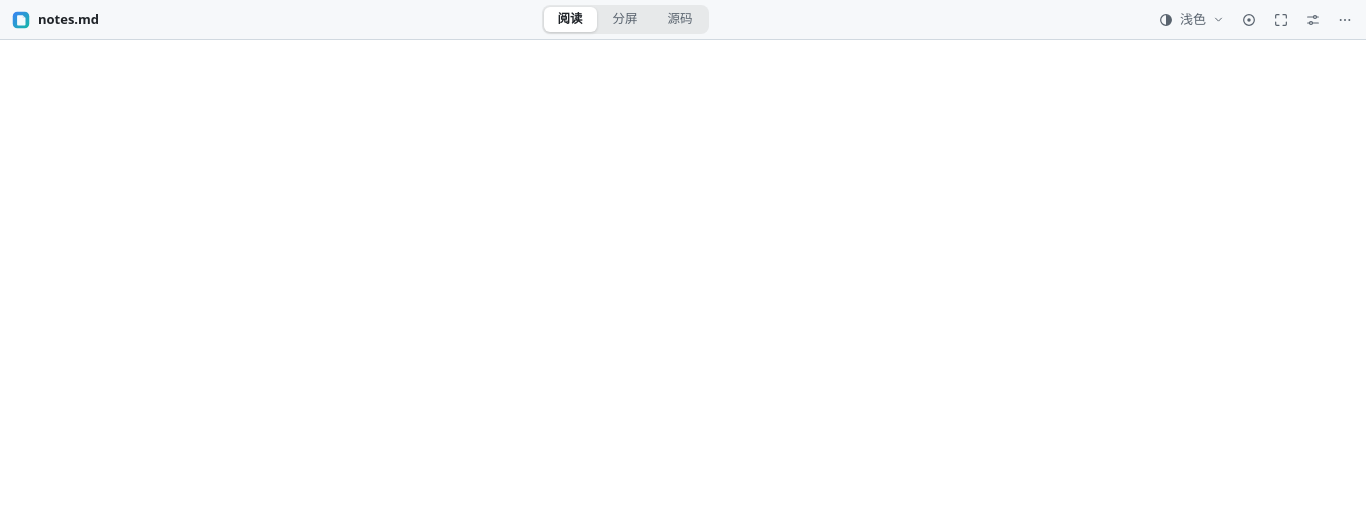
Scenario: TitleBar › routes kebab-menu actions and omits share entries in lightweight builds
The width and height of the screenshot is (1366, 506).
Click the button titled "更多操作" at (1345, 20), box [1330,6,1360,34]
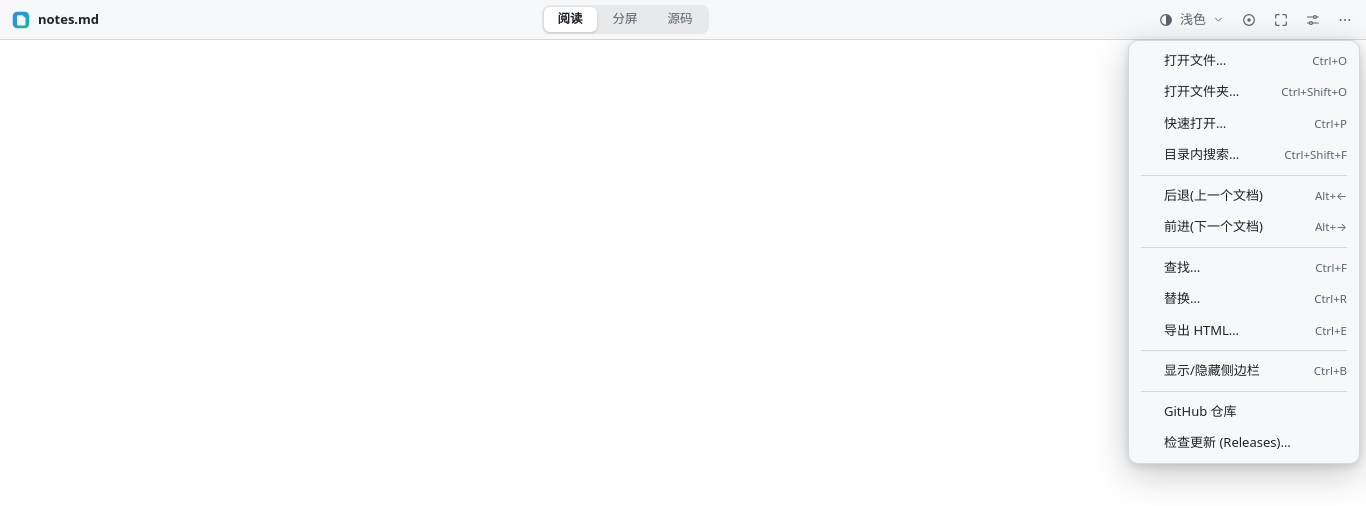
Click the menu item "导出 HTML… Ctrl+E" at (1244, 330), box [1133,314,1355,346]
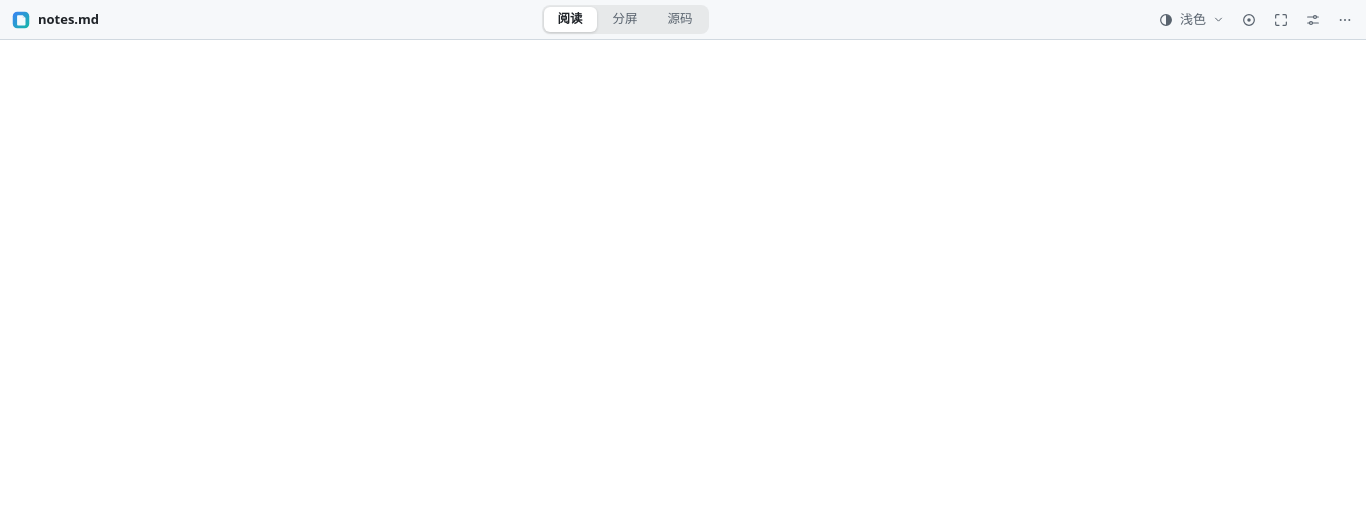
Result: the menu is gone
